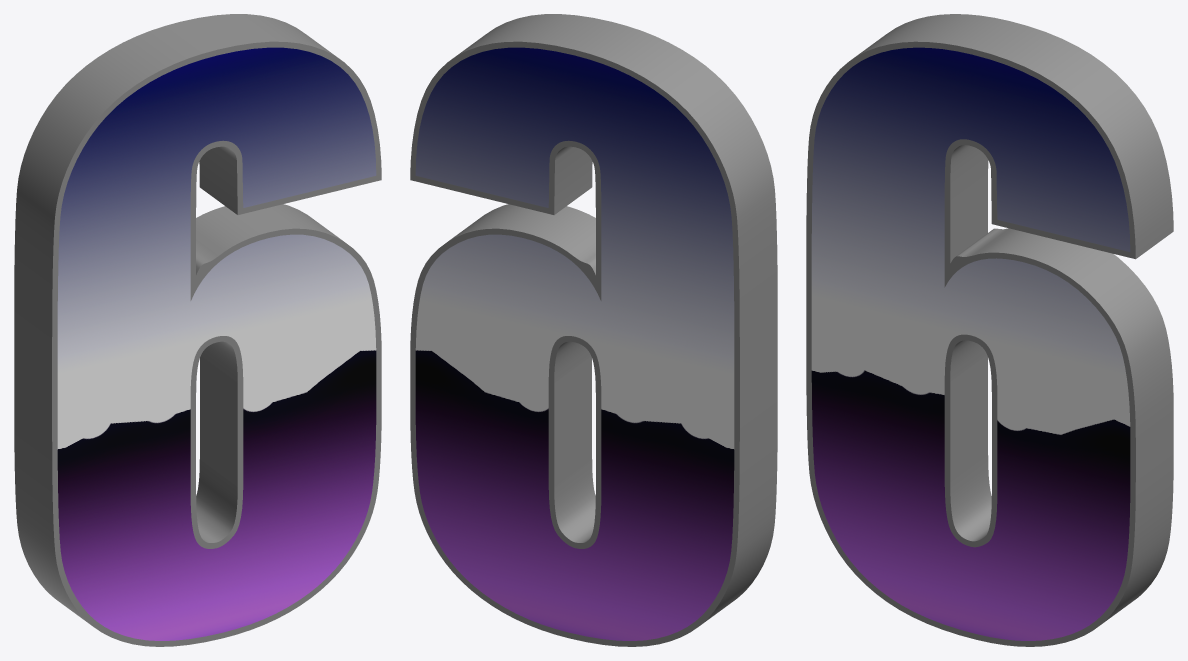
3 views of the same model, side by side, from view 1: azimuth 30°, elevation 25°; view 2: azimuth 150°, elevation 25°; view 3: azimuth 330°, elevation 25° (orthographic).
Parts seen in each view (by area): view 1: 6, 6_outline; view 2: 6, 6_outline; view 3: 6, 6_outline.
Part boxes in pixels (left/top/right/bottom): 6: left=57, top=47, right=376, bottom=640; 6_outline: left=14, top=14, right=381, bottom=646; 6: left=415, top=47, right=734, bottom=640; 6_outline: left=410, top=14, right=777, bottom=646; 6: left=811, top=47, right=1130, bottom=640; 6_outline: left=806, top=14, right=1173, bottom=646.
Size of the model in its own units: 60.2 by 103 by 12.
Materials: 2 (1 with a texture image).
